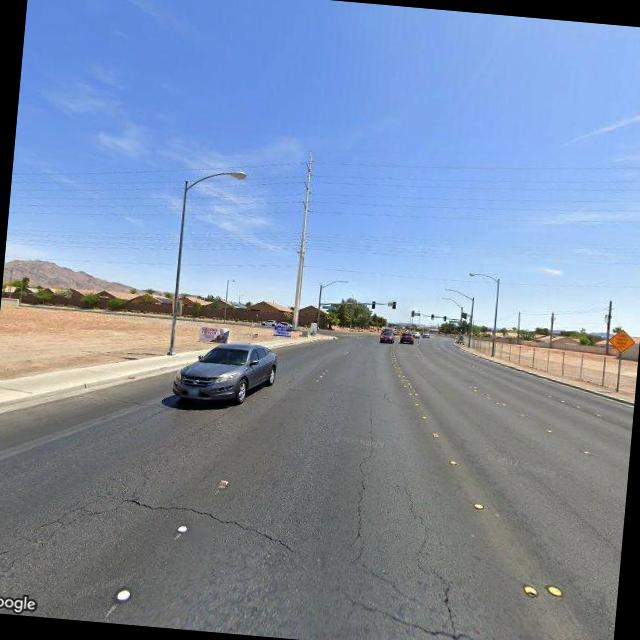crack: (50, 482, 302, 555), (338, 589, 560, 640), (390, 466, 464, 606), (341, 410, 383, 564)
